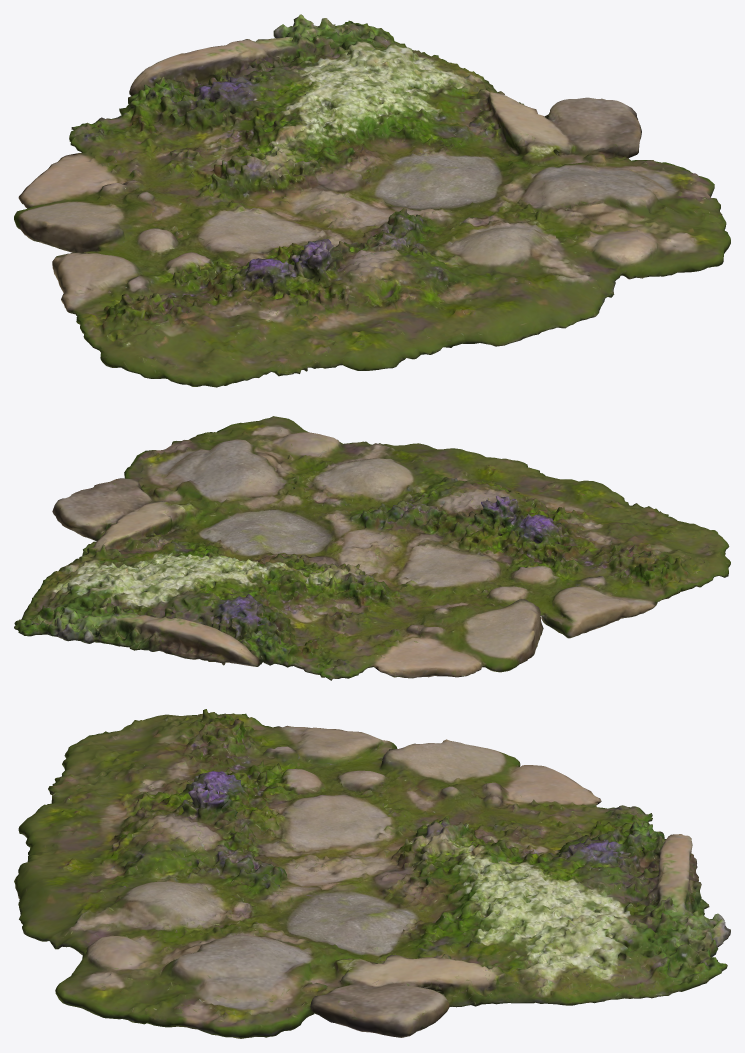
The model's file is taman-hq.glb.
The picture shows the model from 3 angles, top to bottom: view 1: azimuth 30°, elevation 25°; view 2: azimuth 150°, elevation 25°; view 3: azimuth 270°, elevation 25°; orthographic projection. The views are drawn at different scales.
Bounding box in the file's own units: 1.87 × 0.1571 × 1.77.
1 material, 1 textured.
